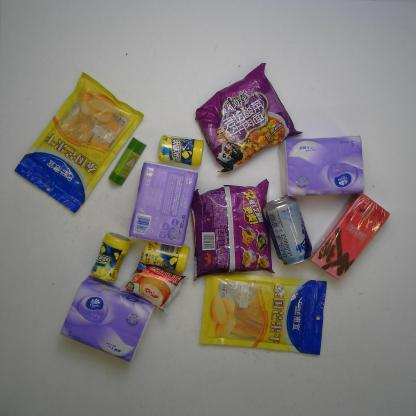Alcohol: (262, 194, 313, 267)
Dessert: (118, 250, 188, 318)
Dried Fruit: (13, 70, 146, 215), (198, 271, 328, 358)
Gum: (88, 231, 132, 284), (140, 238, 192, 274), (157, 132, 206, 168)
Instant Drink: (309, 191, 392, 282)
Instant Noodles: (193, 61, 304, 174), (189, 177, 276, 282)
Stationery: (106, 136, 147, 188)
Tissue: (56, 274, 156, 364), (127, 160, 199, 249), (276, 133, 366, 198)
